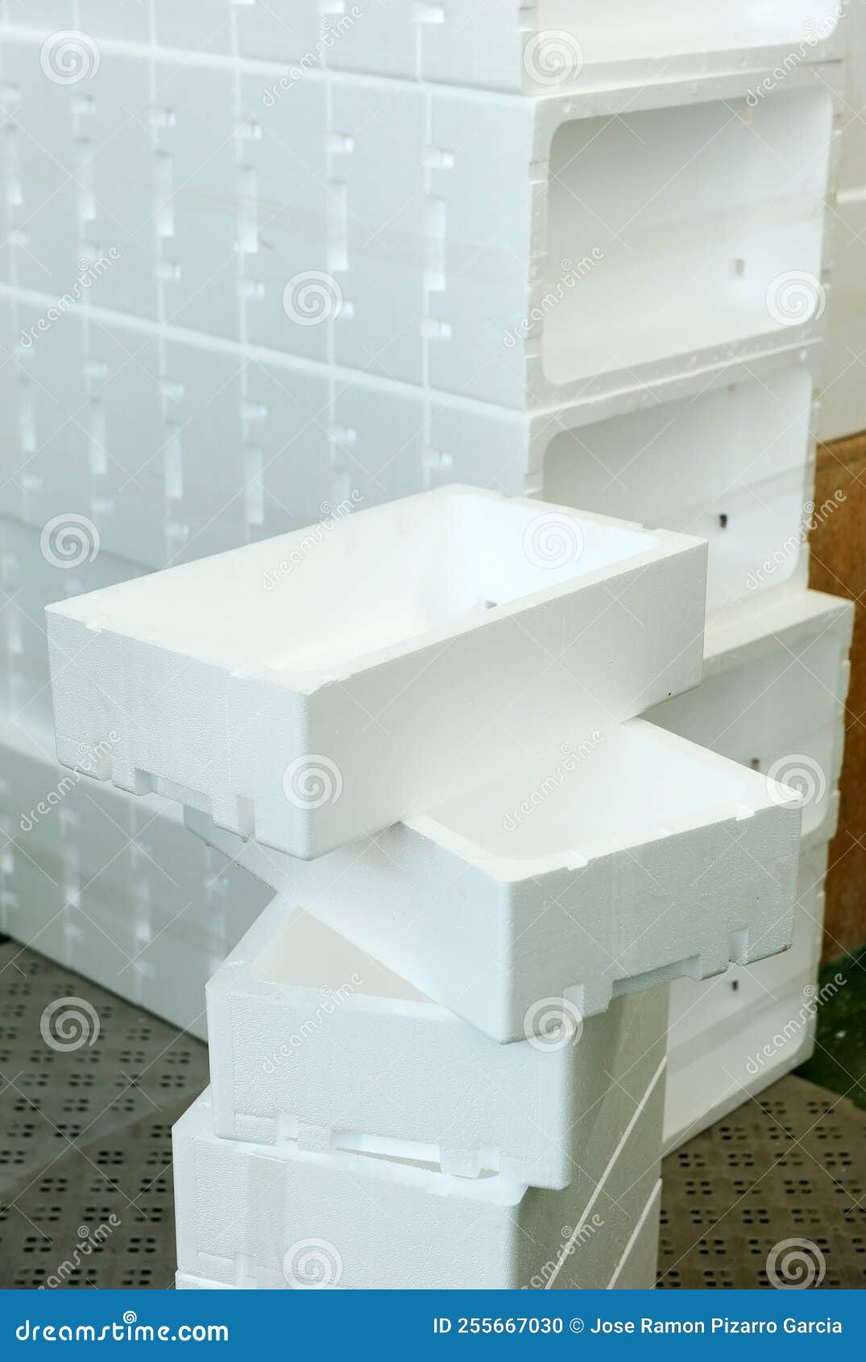Boxes: (0, 0, 845, 1289)
